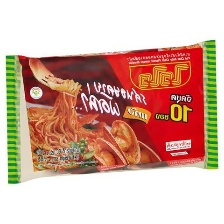snack: (0, 33, 224, 189)
